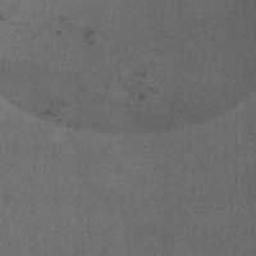Oil spot: (0, 0, 256, 138)
